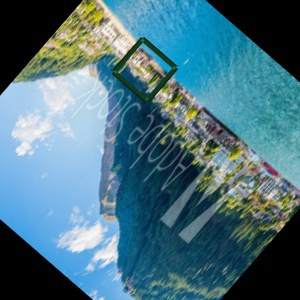square: (110, 37, 179, 104)
